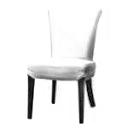chair_success: (13, 4, 109, 126)
